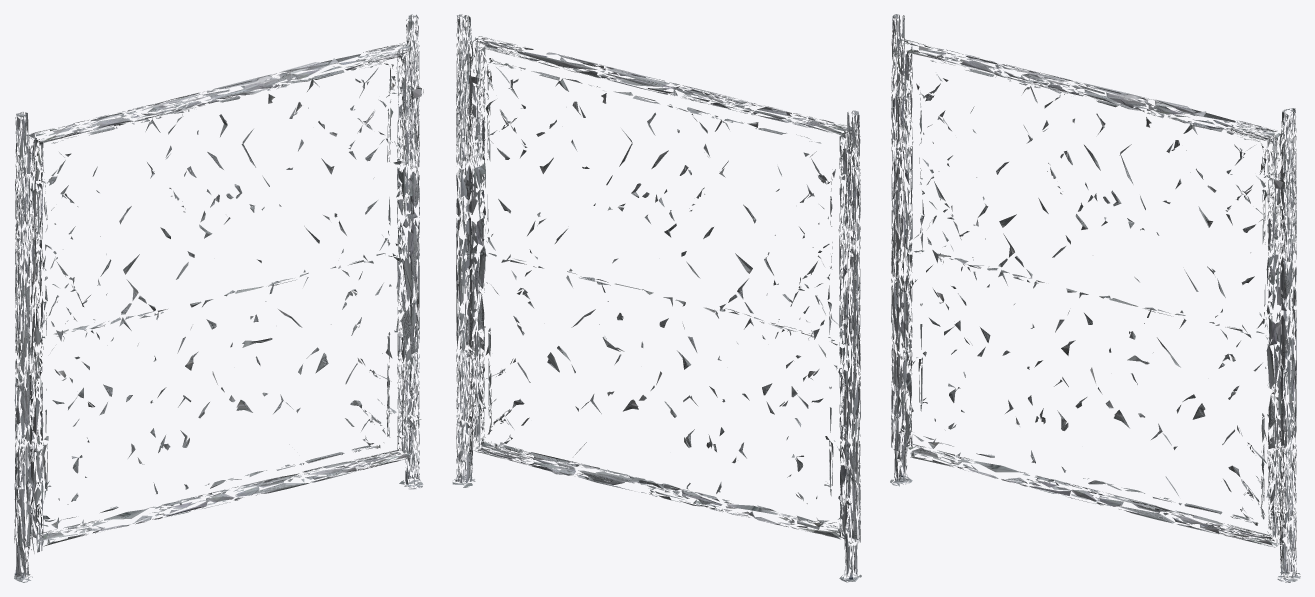
The model's file is CourtFence.obj.
3 renders of one model, left to right at view 1: azimuth 30°, elevation 25°; view 2: azimuth 150°, elevation 25°; view 3: azimuth 330°, elevation 25°, orthographic.
Size of the model in its own units: 2.73 by 3 by 0.198.
1 material, 1 textured.
